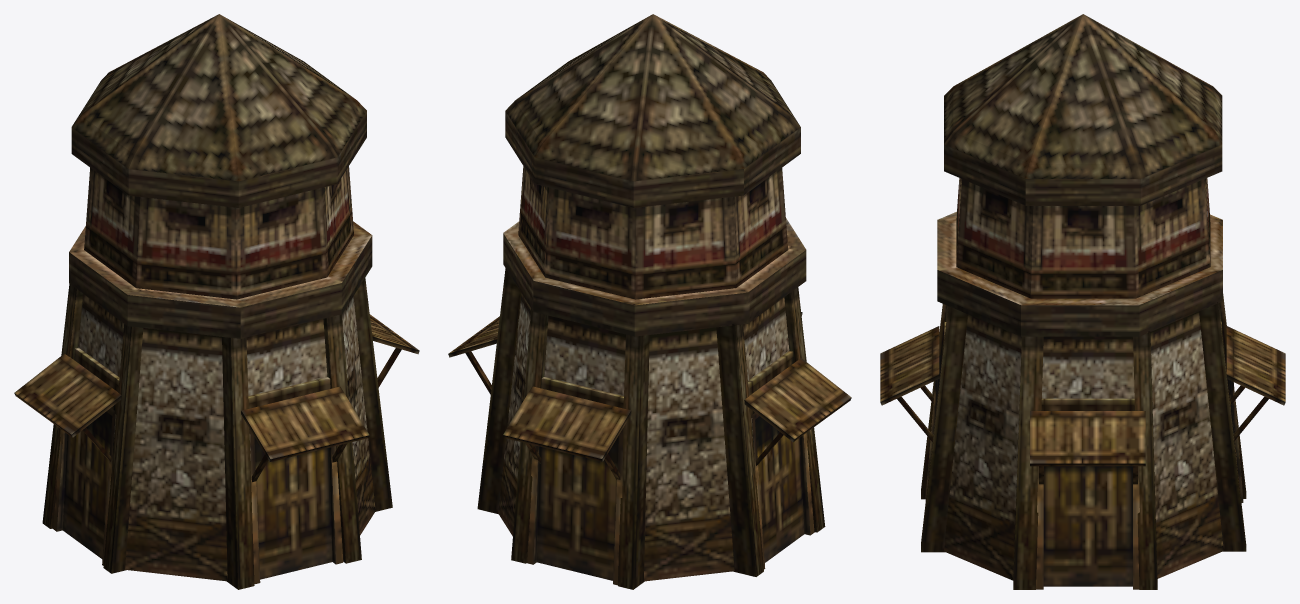
The model's file is ob-7-12-building02.glb.
3 renders of one model, left to right at view 1: azimuth 30°, elevation 25°; view 2: azimuth 150°, elevation 25°; view 3: azimuth 270°, elevation 25°, orthographic.
Parts seen in each view (by area): view 1: Object01; view 2: Object01; view 3: Object01.
Part boxes in pixels (<box>): Object01: <box>14,14,419,589</box>; Object01: <box>448,14,851,589</box>; Object01: <box>880,14,1285,589</box>.
Bounding box in the file's own units: 9.22 × 12.75 × 9.22.
Materials: 1 (1 with a texture image).
